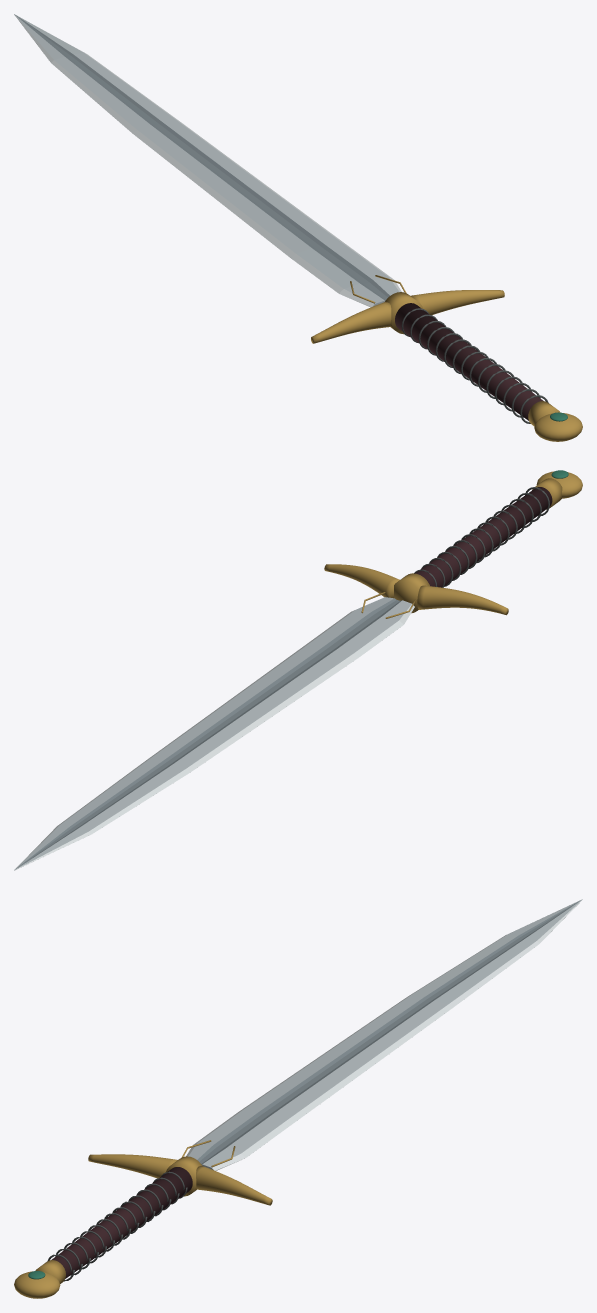
Rendered from wakecleaver.glb.
3 renders of one model, top to bottom at view 1: azimuth 30°, elevation 25°; view 2: azimuth 150°, elevation 25°; view 3: azimuth 330°, elevation 25°, orthographic. The views are drawn at different scales.
Parts seen in each view (by area): view 1: Forged_wakecleaver; view 2: Forged_wakecleaver; view 3: Forged_wakecleaver.
Boxes of the visible parts, x1,y1,x2,y2 form: Forged_wakecleaver: [14, 14, 582, 441]; Forged_wakecleaver: [14, 470, 582, 870]; Forged_wakecleaver: [14, 899, 582, 1298].
Size of the model in its own units: 0.3201 by 0.054 by 1.66.
